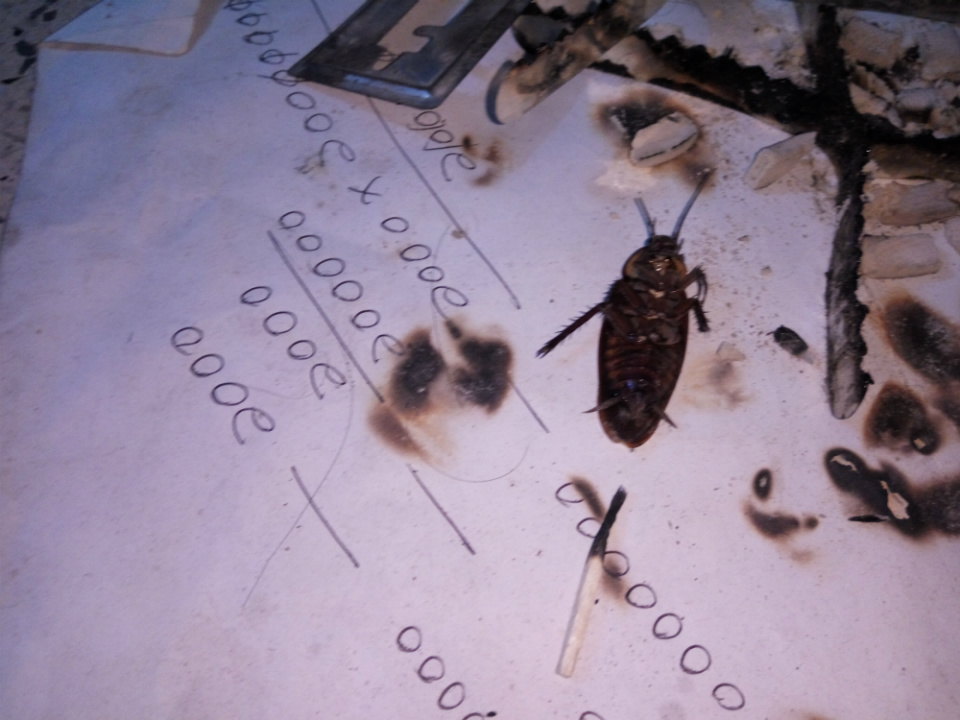cockroach: (475, 157, 748, 462)
